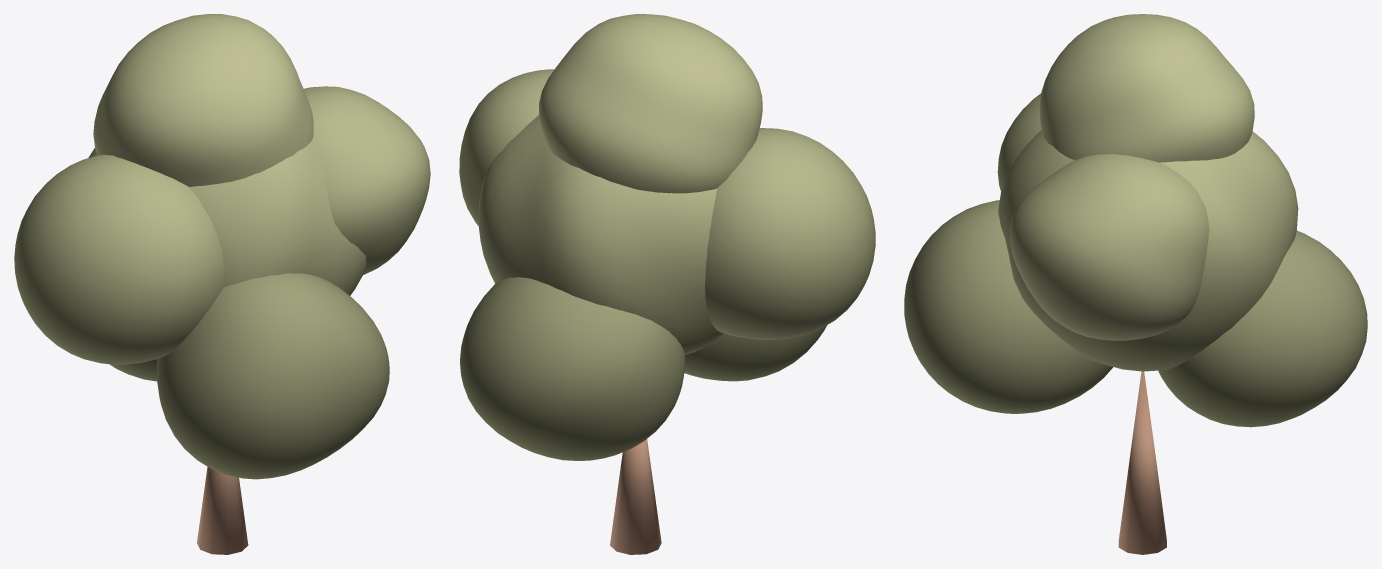
File: tree_c.glb
3 renders of one model, left to right at view 1: azimuth 30°, elevation 25°; view 2: azimuth 150°, elevation 25°; view 3: azimuth 270°, elevation 25°, orthographic. The views are drawn at different scales.
Visible parts, largest first — view 1: crown, trunk; view 2: crown, trunk; view 3: crown, trunk.
Boxes of the visible parts, bbox=[...] form: crown: bbox=[14, 14, 430, 479]; trunk: bbox=[197, 466, 248, 554]; crown: bbox=[459, 14, 875, 460]; trunk: bbox=[610, 439, 661, 554]; crown: bbox=[904, 14, 1367, 427]; trunk: bbox=[1118, 371, 1166, 554].
Size of the model in its own units: 4.78 by 6.16 by 5.05.
